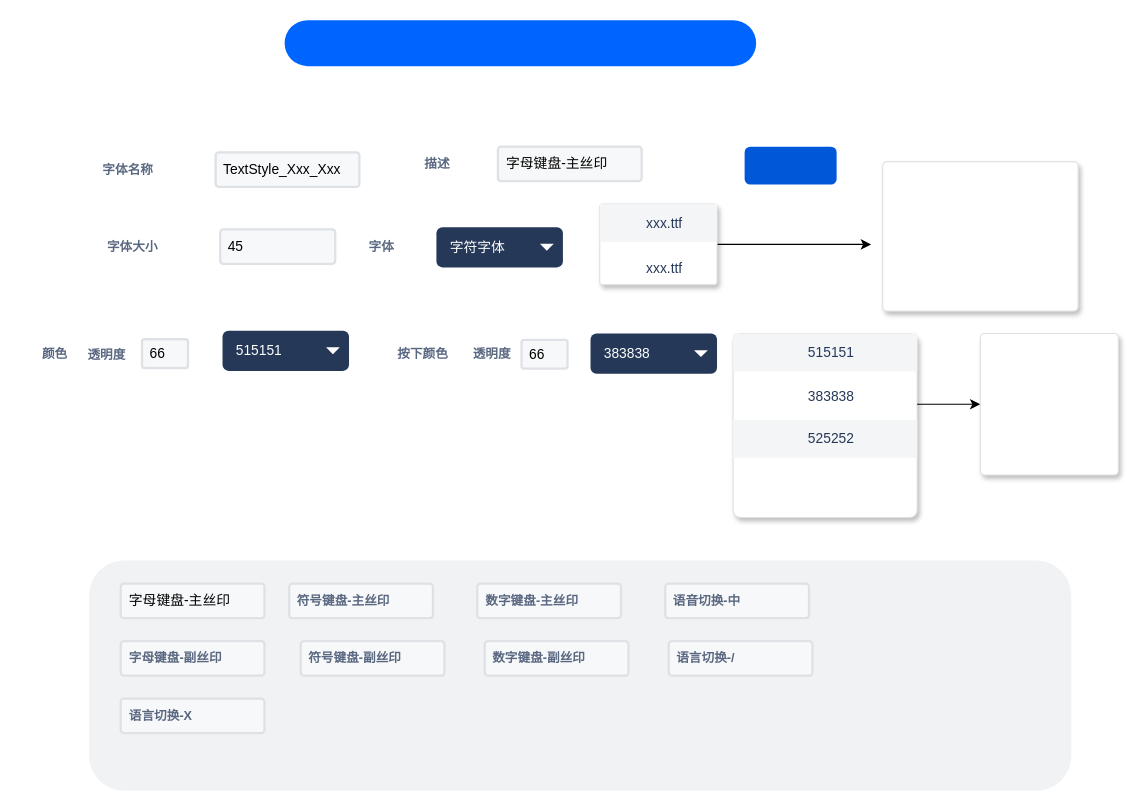
Image size: 1145x810. Some labels were removed from this diagram. Here are the shapes that lost their labels. From the top down, the centre of each, then its label:
At point (520, 43): "字体风格设置".
At point (790, 165): "保存".
At point (981, 237): "从-资源管理-中字体文件列表中选择".
At point (1050, 405): "颜色配置 是预定配置".
